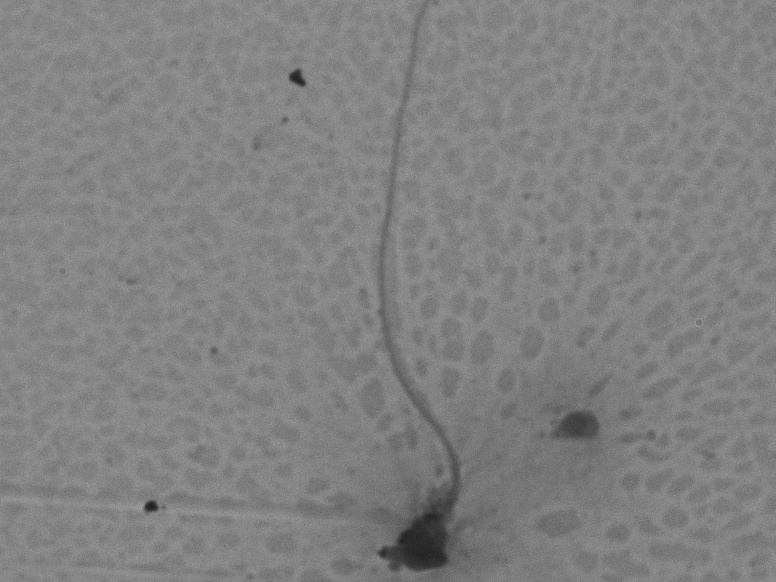Abnormal: (302, 12, 523, 579)
